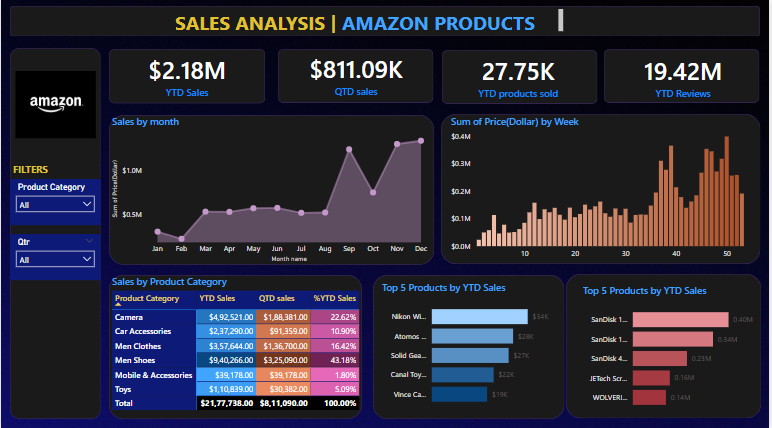

What the dashboard file says about the page in this screenshot:
{"tool":"powerbi","page":{"name":"Page 1","canvas":[1280,720],"ordinal":0},"visuals":[{"type":"shape","box":[461.5,84.5,258.8,89.8],"z":0},{"type":"shape","box":[15.1,13.4,1249.8,50.4],"z":1000},{"type":"card","fields":{"Values":["Amazon_Data.QTD sales"]},"box":[461.9,82.3,260.4,92.4],"z":2000},{"type":"shape","box":[179.6,84.2,260.4,90.7],"z":3000},{"type":"shape","box":[15.1,84,151.2,618.2],"z":4000},{"type":"card","fields":{"Values":["Amazon_Data.YTD Sales"]},"box":[179.7,84,260.4,92.4],"z":5000},{"type":"shape","box":[734.4,86.3,258.8,89.8],"z":6000},{"type":"shape","box":[1005.5,84.5,258.8,89.8],"z":7000},{"type":"card","fields":{"Values":["Amazon_Data.YTD products sold"]},"box":[732.4,85.7,260.4,92.4],"z":8000},{"type":"card","fields":{"Values":["Amazon_Data.YTD Reviews"]},"box":[1006.2,85.7,260.4,92.4],"z":9000},{"type":"shape","box":[179.7,194.9,542,250],"z":10000},{"type":"areaChart","title":"Sales by month","fields":{"Category":["Date Table.Month name"],"Y":["Sum(Amazon_Data.Price(Dollar))"]},"box":[179.7,194.9,540.9,250.3],"z":11000},{"type":"shape","box":[734.1,193.2,532.5,250.3],"z":12000},{"type":"columnChart","fields":{"Category":["Date Table.Week"],"Y":["Sum(Amazon_Data.Price(Dollar))"]},"box":[745.8,194.9,519.1,248.6],"z":13000},{"type":"shape","box":[179.7,461.9,421.6,240.2],"z":14000},{"type":"pivotTable","title":"Sales by Product Category","fields":{"Rows":["Amazon_Data.Product Category"],"Values":["Amazon_Data.YTD Sales1","Amazon_Data.QTD sales","Amazon_Data.YTD Sales"]},"box":[179.7,461.9,433.4,250.3],"z":15000},{"type":"shape","box":[619.8,461.9,319.2,240.2],"z":16000},{"type":"shape","box":[941.8,460.8,325.4,240.5],"z":17000},{"type":"clusteredBarChart","title":"Top 5 Products by YTD Sales","fields":{"Category":["Amazon_Data.Product Description"],"Y":["Amazon_Data.YTD Sales"]},"box":[629.9,472,299,220.1],"z":18000},{"type":"clusteredBarChart","title":"Top 5 Products by YTD Sales","fields":{"Category":["Amazon_Data.Product Description"],"Y":["Amazon_Data.YTD Reviews"]},"box":[964.8,476.6,299.5,220.3],"z":19000},{"type":"slicer","fields":{"Values":["Amazon_Data.Product Category"]},"box":[15.1,302.4,151.2,77.3],"z":20000},{"type":"slicer","fields":{"Values":["Date Table.Qtr"]},"box":[15.1,393.1,151.2,77.3],"z":21000},{"type":"textbox","box":[285.1,13,656.6,50.4],"z":22000},{"type":"textbox","box":[14.4,270.7,82.1,31.7],"z":23000},{"type":"image","box":[14.4,116.6,151.2,122.4],"z":24000}]}

Visuals, with their boxes in screenshot pixels (x1, y1, x2, y2), scaled from the page's 1280x720 canvas onto the 772x428 screenshot:
shape: bbox=(278, 50, 434, 104)
shape: bbox=(9, 8, 763, 38)
card - Amazon_Data.QTD sales: bbox=(279, 49, 436, 104)
shape: bbox=(108, 50, 265, 104)
shape: bbox=(9, 50, 100, 417)
card - Amazon_Data.YTD Sales: bbox=(108, 50, 265, 105)
shape: bbox=(443, 51, 599, 105)
shape: bbox=(606, 50, 763, 104)
card - Amazon_Data.YTD products sold: bbox=(442, 51, 599, 106)
card - Amazon_Data.YTD Reviews: bbox=(607, 51, 764, 106)
shape: bbox=(108, 116, 435, 264)
"Sales by month" areaChart: bbox=(108, 116, 435, 265)
shape: bbox=(443, 115, 764, 264)
columnChart - Date Table.Week x Sum(Amazon_Data.Price(Dollar)): bbox=(450, 116, 763, 264)
shape: bbox=(108, 275, 363, 417)
"Sales by Product Category" pivotTable: bbox=(108, 275, 370, 423)
shape: bbox=(374, 275, 566, 417)
shape: bbox=(568, 274, 764, 417)
"Top 5 Products by YTD Sales" clusteredBarChart: bbox=(380, 281, 560, 411)
"Top 5 Products by YTD Sales" clusteredBarChart: bbox=(582, 283, 763, 414)
slicer - Amazon_Data.Product Category: bbox=(9, 180, 100, 226)
slicer - Date Table.Qtr: bbox=(9, 234, 100, 280)
textbox: bbox=(172, 8, 568, 38)
textbox: bbox=(9, 161, 58, 180)
image: bbox=(9, 69, 100, 142)
